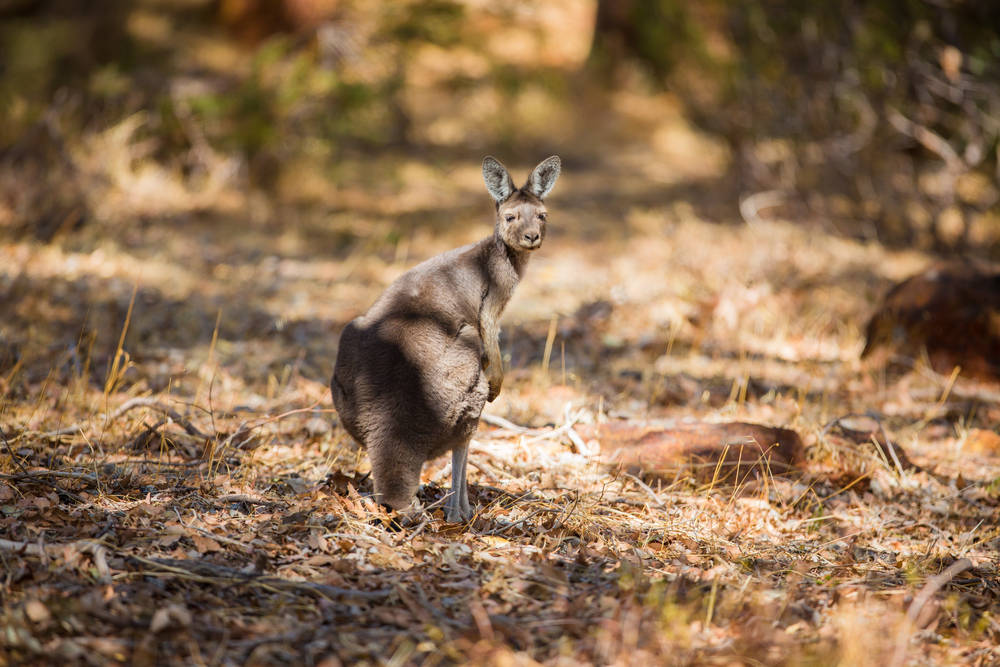kangaroo: (327, 155, 569, 538)
